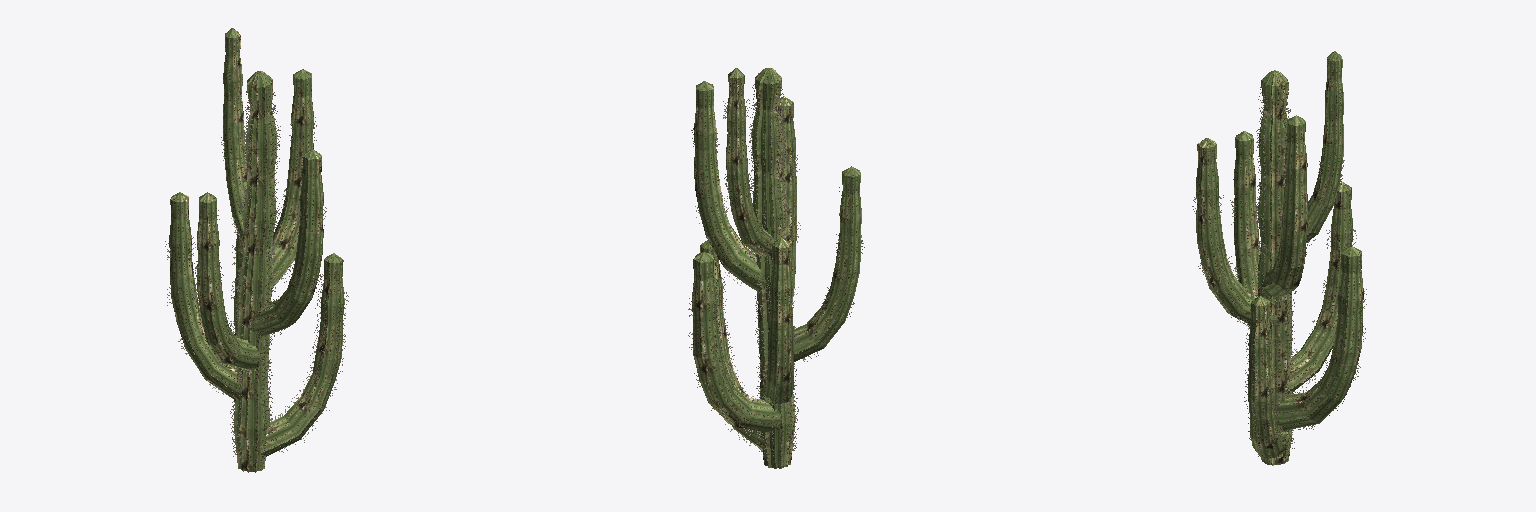
3 renders of one model, left to right at view 1: azimuth 30°, elevation 25°; view 2: azimuth 150°, elevation 25°; view 3: azimuth 270°, elevation 25°, orthographic.
Visible parts, largest first — view 1: tree; view 2: tree; view 3: tree.
Part boxes in pixels (left/top/right/bottom): tree: left=165, top=28, right=348, bottom=472; tree: left=688, top=68, right=864, bottom=468; tree: left=1192, top=51, right=1366, bottom=465.
Bounding box in the file's own units: 97.92 × 242 × 94.09.
2 materials, 2 textured.